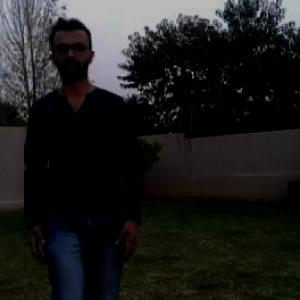follow: (38, 33, 134, 299)
